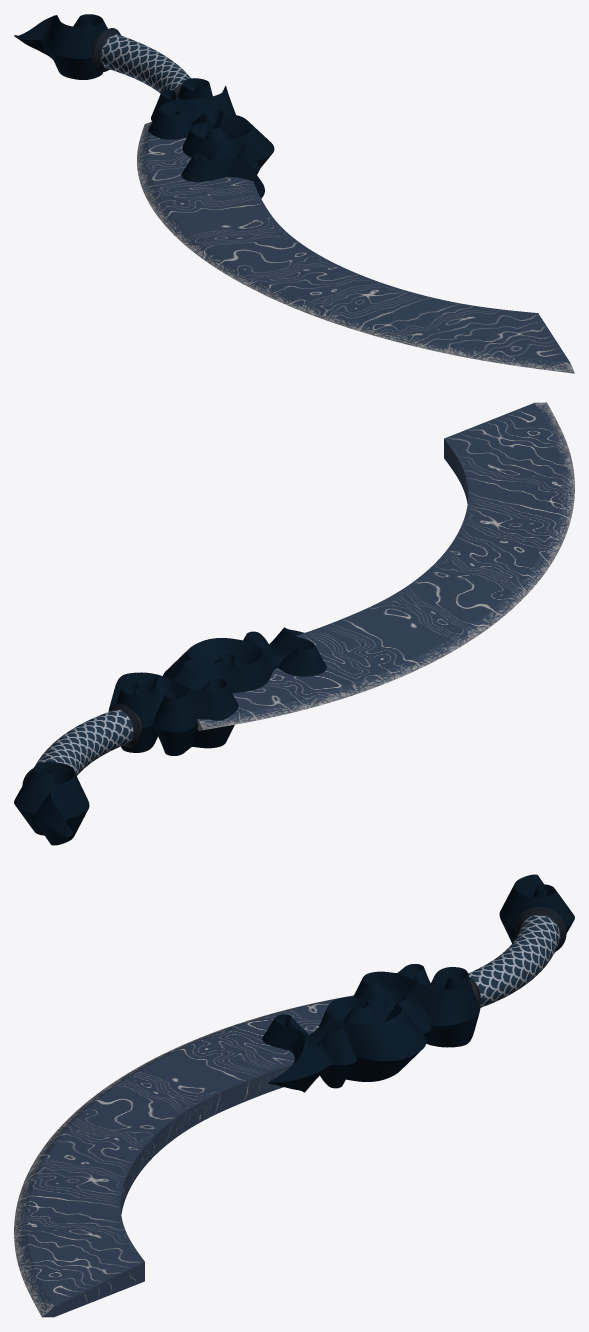
3 views of the same model, one above another, from view 1: azimuth 30°, elevation 25°; view 2: azimuth 150°, elevation 25°; view 3: azimuth 330°, elevation 25° (orthographic). The views are drawn at different scales.
Parts seen in each view (by area): view 1: Nautilia; view 2: Nautilia; view 3: Nautilia.
Part boxes in pixels (<box>): Nautilia: <box>14,14,574,373</box>; Nautilia: <box>14,402,574,845</box>; Nautilia: <box>14,874,574,1317</box>.
Size of the model in its own units: 0.3728 by 0.0995 by 1.68.
1 material, 1 textured.
